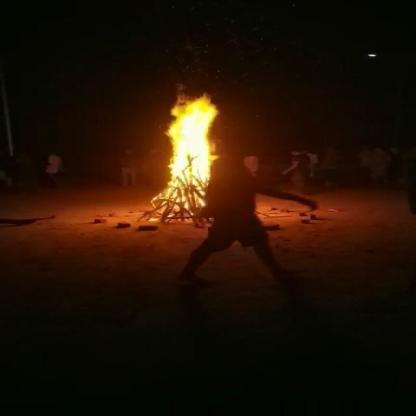Fire: (142, 83, 227, 220)
